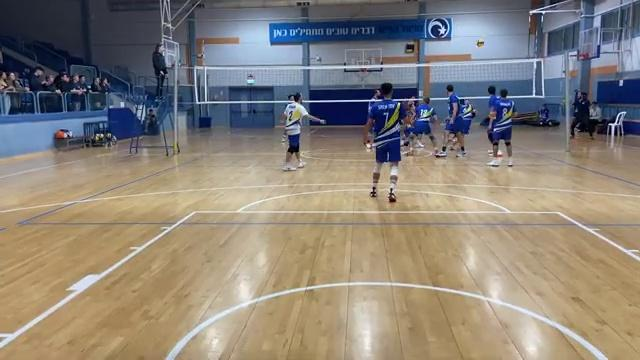ball: (474, 38, 486, 50)
